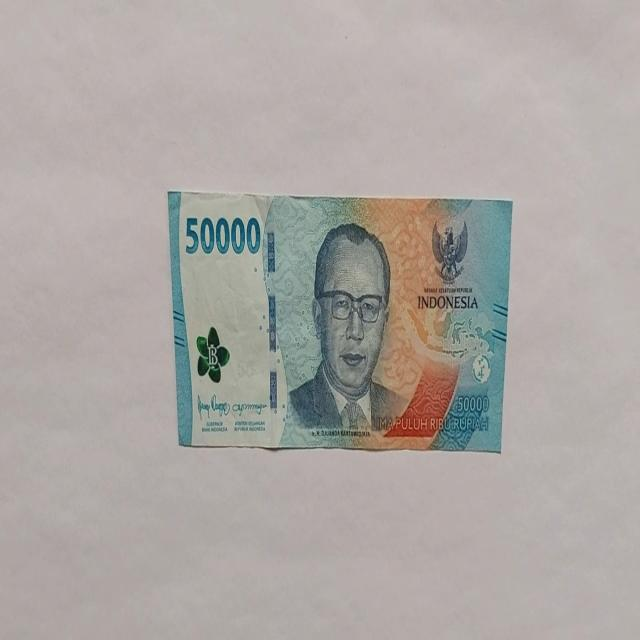lima puluh ribu rupiah: (167, 190, 513, 453), (283, 220, 411, 440), (184, 212, 262, 258)
